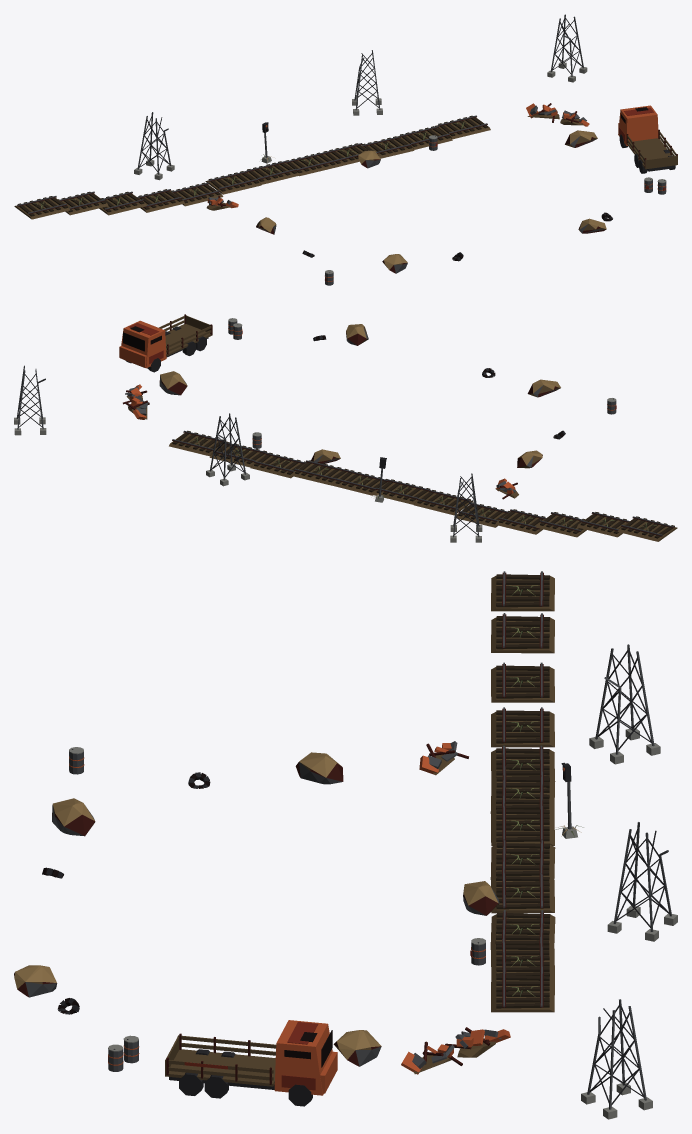
File: scablands_railline.glb
The picture shows the model from 3 angles, top to bottom: view 1: azimuth 30°, elevation 25°; view 2: azimuth 150°, elevation 25°; view 3: azimuth 270°, elevation 25°; orthographic projection. The views are drawn at different scales.
Visible parts, largest first — view 1: scablands_railline; view 2: scablands_railline; view 3: scablands_railline.
Part boxes in pixels (x1,y1,x2,y2): scablands_railline: (14, 14, 677, 285); scablands_railline: (14, 314, 677, 542); scablands_railline: (14, 571, 677, 1119).
Bounding box in the file's own units: 45.89 × 5.03 × 25.44.
